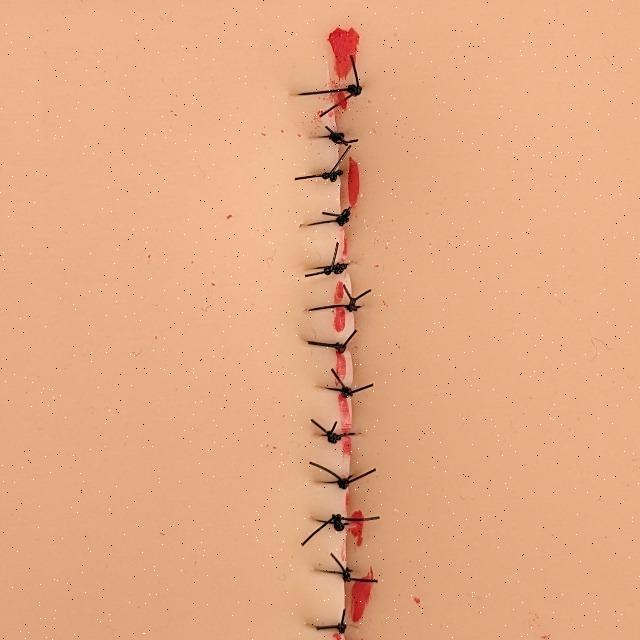suture_good: (306, 558, 390, 594), (307, 460, 383, 498), (308, 418, 372, 451), (300, 294, 372, 320), (291, 85, 369, 104)
suture_tight: (304, 503, 384, 542), (310, 374, 376, 410), (296, 204, 362, 238), (300, 330, 366, 360), (306, 611, 370, 640), (302, 258, 368, 286), (294, 164, 352, 190), (306, 130, 360, 152)
